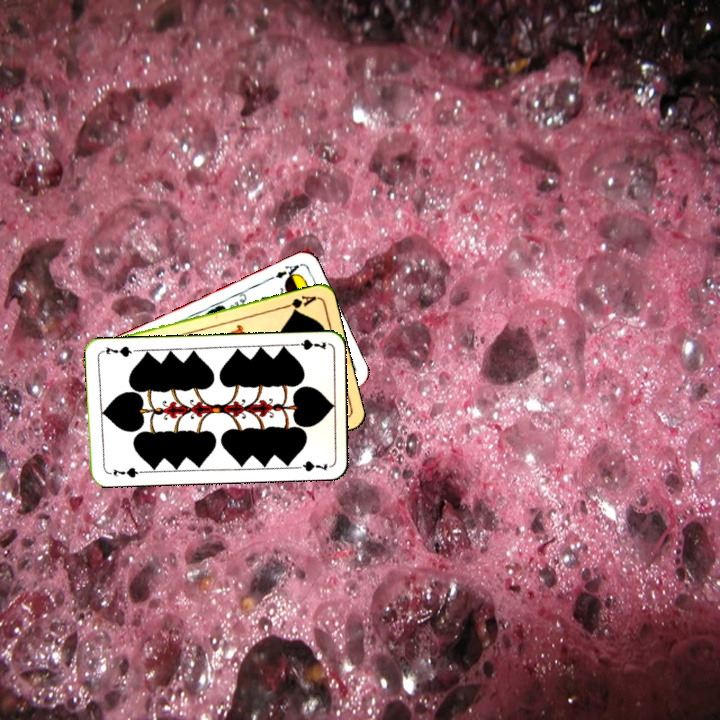EA: (264, 260, 303, 283)
G7: (288, 335, 329, 353), (109, 463, 144, 480)
GA: (279, 291, 319, 314)
